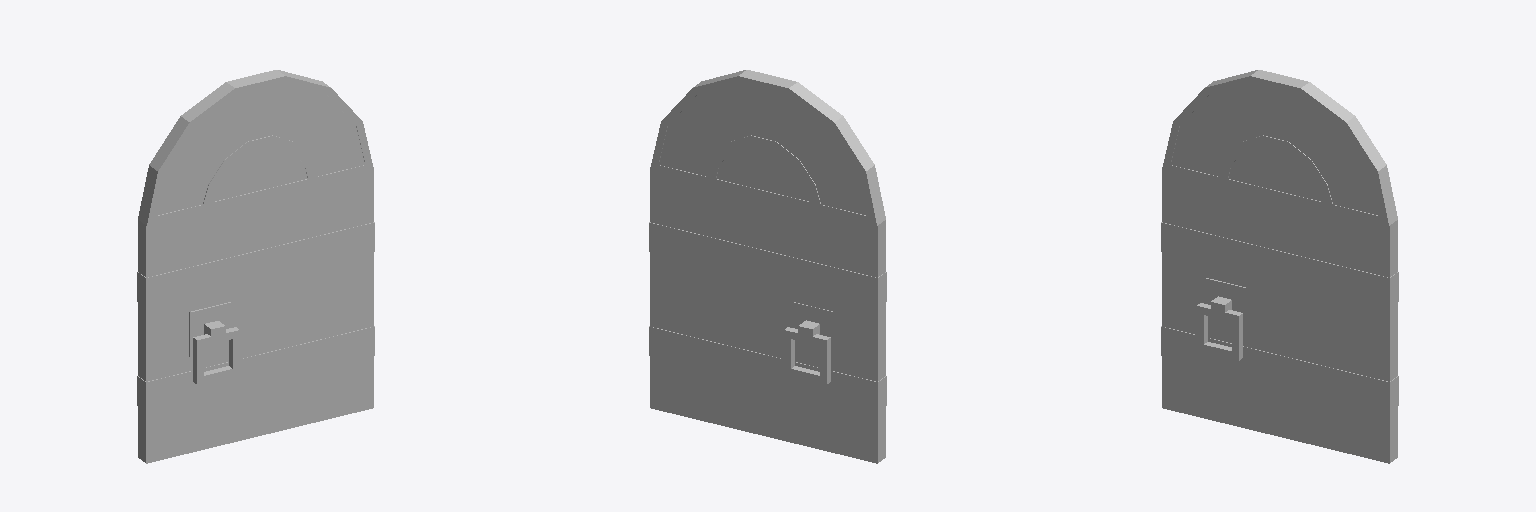
File: door_1.obj
The picture shows the model from 3 angles: view 1: azimuth 30°, elevation 25°; view 2: azimuth 150°, elevation 25°; view 3: azimuth 330°, elevation 25°; orthographic projection.
Parts seen in each view (by area): view 1: D_pixel_door_set_01:door_32_01_Mesh.009, D_pixel_door_set_01:door_32_top_01_Mesh.008; view 2: D_pixel_door_set_01:door_32_01_Mesh.009, D_pixel_door_set_01:door_32_top_01_Mesh.008; view 3: D_pixel_door_set_01:door_32_01_Mesh.009, D_pixel_door_set_01:door_32_top_01_Mesh.008.
Part boxes in pixels (bbox=[...]): D_pixel_door_set_01:door_32_01_Mesh.009: bbox=[137, 171, 374, 463]; D_pixel_door_set_01:door_32_top_01_Mesh.008: bbox=[138, 70, 373, 225]; D_pixel_door_set_01:door_32_01_Mesh.009: bbox=[649, 171, 886, 463]; D_pixel_door_set_01:door_32_top_01_Mesh.008: bbox=[650, 70, 885, 225]; D_pixel_door_set_01:door_32_01_Mesh.009: bbox=[1161, 171, 1398, 463]; D_pixel_door_set_01:door_32_top_01_Mesh.008: bbox=[1162, 70, 1397, 225].
Size of the model in its own units: 0.322 by 0.476 by 0.06.